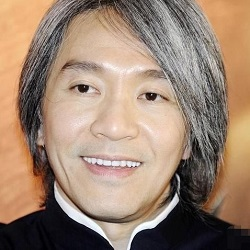unmask: (38, 42, 194, 219)
